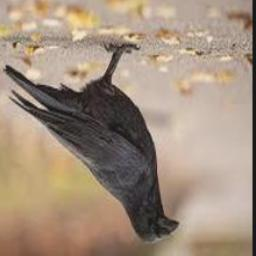Crow: (3, 42, 180, 244)
